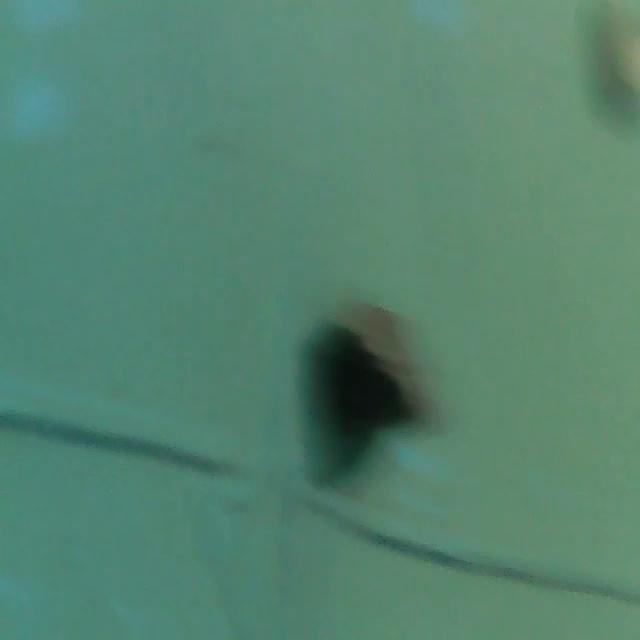rock: (314, 298, 433, 434)
